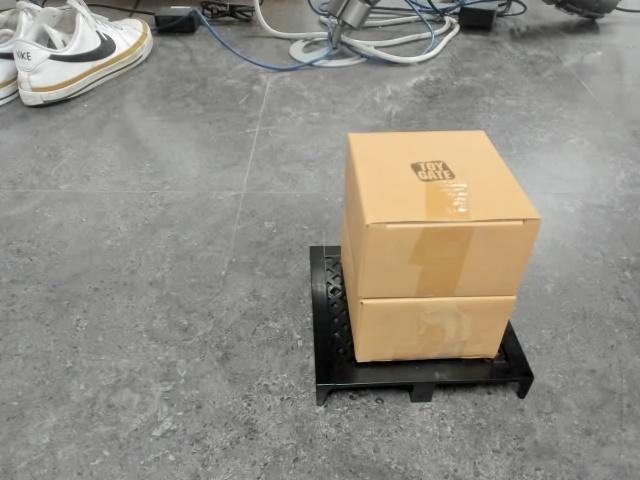box: (307, 129, 544, 410)
